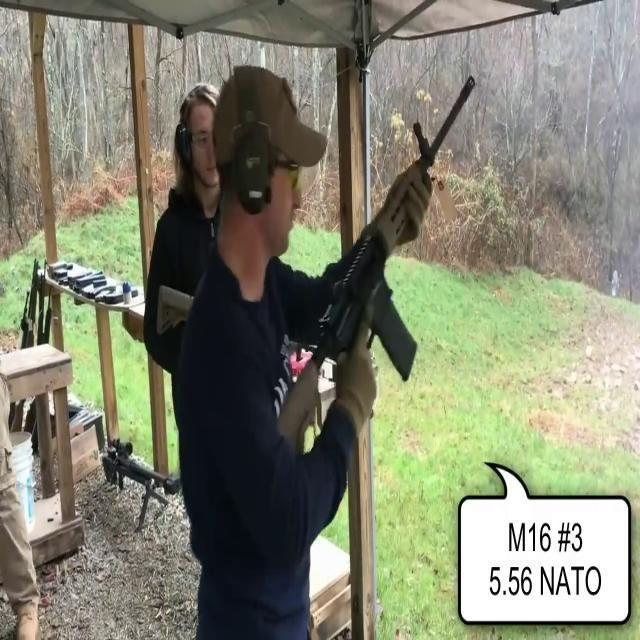Rifle: (270, 64, 478, 464)
